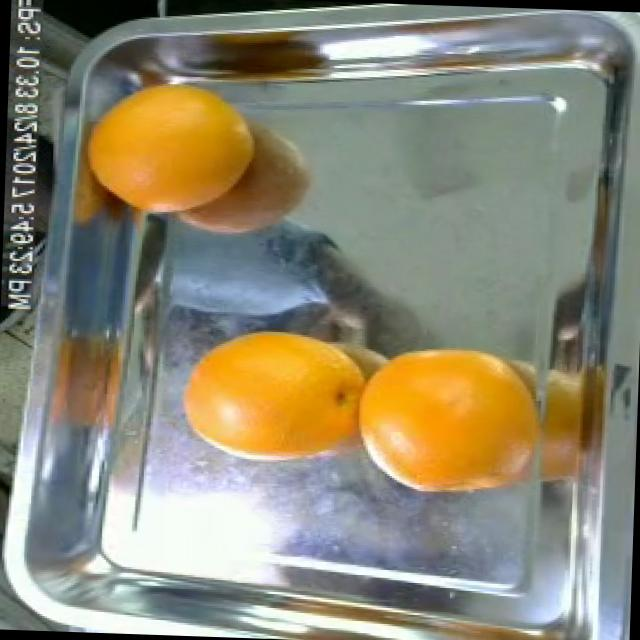Fruit: (67, 73, 294, 249), (158, 305, 380, 478), (28, 316, 141, 450)
